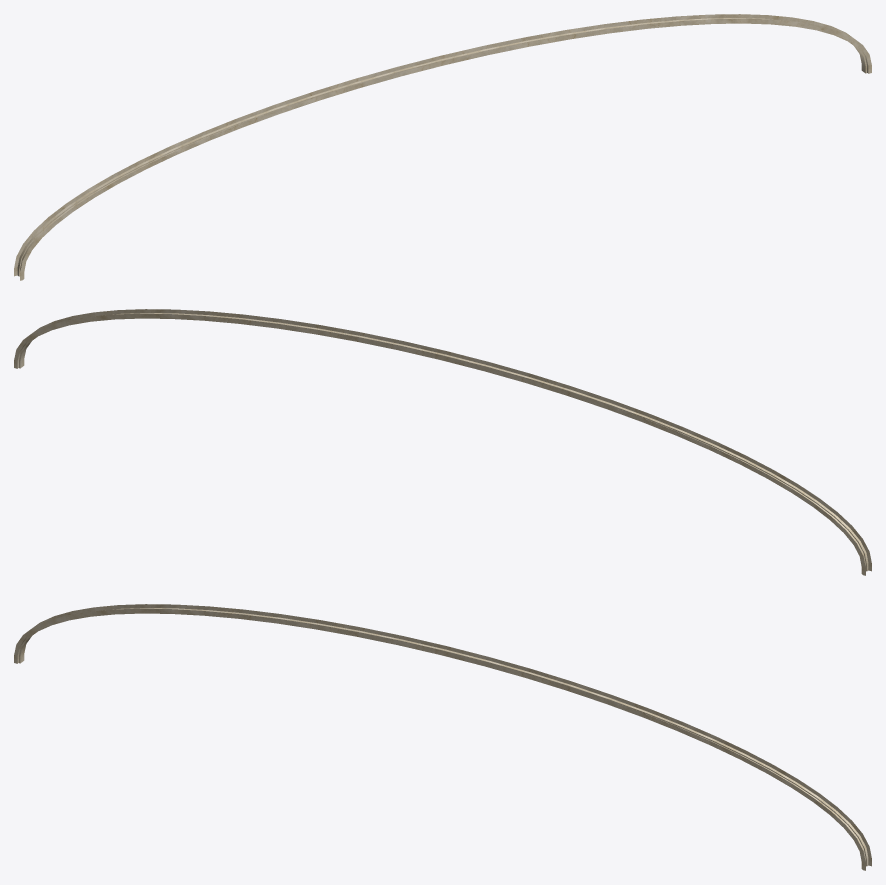
3 renders of one model, top to bottom at view 1: azimuth 30°, elevation 25°; view 2: azimuth 150°, elevation 25°; view 3: azimuth 330°, elevation 25°, orthographic.
Visible parts, largest first — view 1: M_C_201_b_24x03; view 2: M_C_201_b_24x03; view 3: M_C_201_b_24x03.
Part boxes in pixels (x1=…): M_C_201_b_24x03: x1=14, y1=14, x2=871, y2=280; M_C_201_b_24x03: x1=14, y1=309, x2=871, y2=575; M_C_201_b_24x03: x1=14, y1=604, x2=871, y2=870.
Size of the model in its own units: 24.1 by 3.15 by 0.3.
